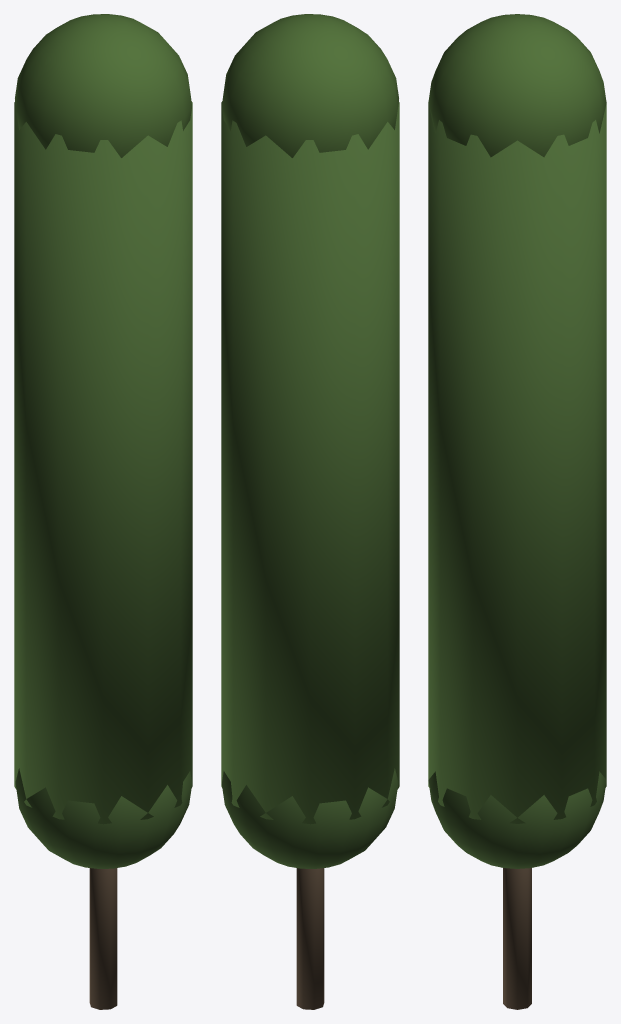
File: Tree_poplar.fbx
3 views of the same model, side by side, from view 1: azimuth 30°, elevation 25°; view 2: azimuth 150°, elevation 25°; view 3: azimuth 270°, elevation 25° (orthographic).
Parts seen in each view (by area): view 1: Column, Top, Bottom, Trunk; view 2: Column, Top, Bottom, Trunk; view 3: Column, Top, Bottom, Trunk.
Part boxes in pixels (box(x1,y1,x2,y2)): Column: box(14, 101, 192, 824); Top: box(15, 14, 191, 157); Bottom: box(15, 768, 191, 868); Trunk: box(89, 868, 117, 1009); Column: box(221, 101, 399, 824); Top: box(222, 14, 398, 157); Bottom: box(222, 768, 398, 868); Trunk: box(296, 868, 324, 1009); Column: box(428, 103, 606, 823); Top: box(428, 14, 606, 157); Bottom: box(428, 771, 606, 868); Trunk: box(503, 868, 531, 1009).
Size of the model in its own units: 260 by 260 by 1580.
